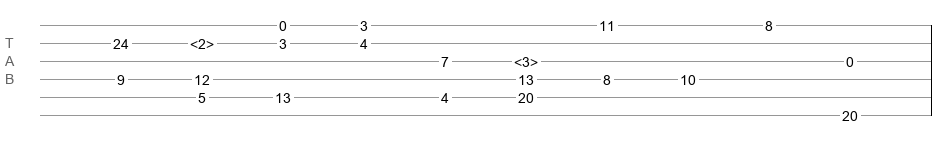0: (279, 18, 287, 28), (846, 54, 854, 64)
10: (680, 72, 696, 82)
11: (599, 18, 615, 28)
12: (194, 72, 210, 82)
13: (275, 90, 291, 100), (518, 72, 534, 82)
20: (518, 90, 534, 100), (842, 108, 858, 118)
24: (113, 36, 129, 46)
3: (279, 36, 287, 46), (360, 18, 368, 28)
4: (360, 36, 368, 46), (441, 90, 449, 100)
5: (198, 90, 206, 100)
7: (441, 54, 449, 64)
8: (603, 72, 611, 82), (765, 18, 773, 28)
9: (117, 72, 125, 82)
harmonic: (190, 36, 214, 46), (514, 54, 538, 64)
